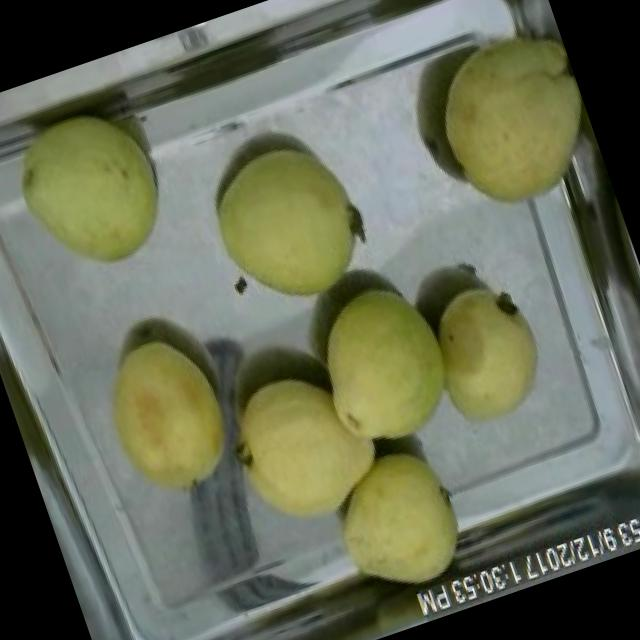Fruit: (407, 12, 610, 230), (201, 344, 396, 556), (72, 307, 264, 522), (188, 121, 388, 326), (0, 84, 191, 296), (295, 264, 475, 470), (308, 430, 484, 620), (408, 263, 564, 438)
